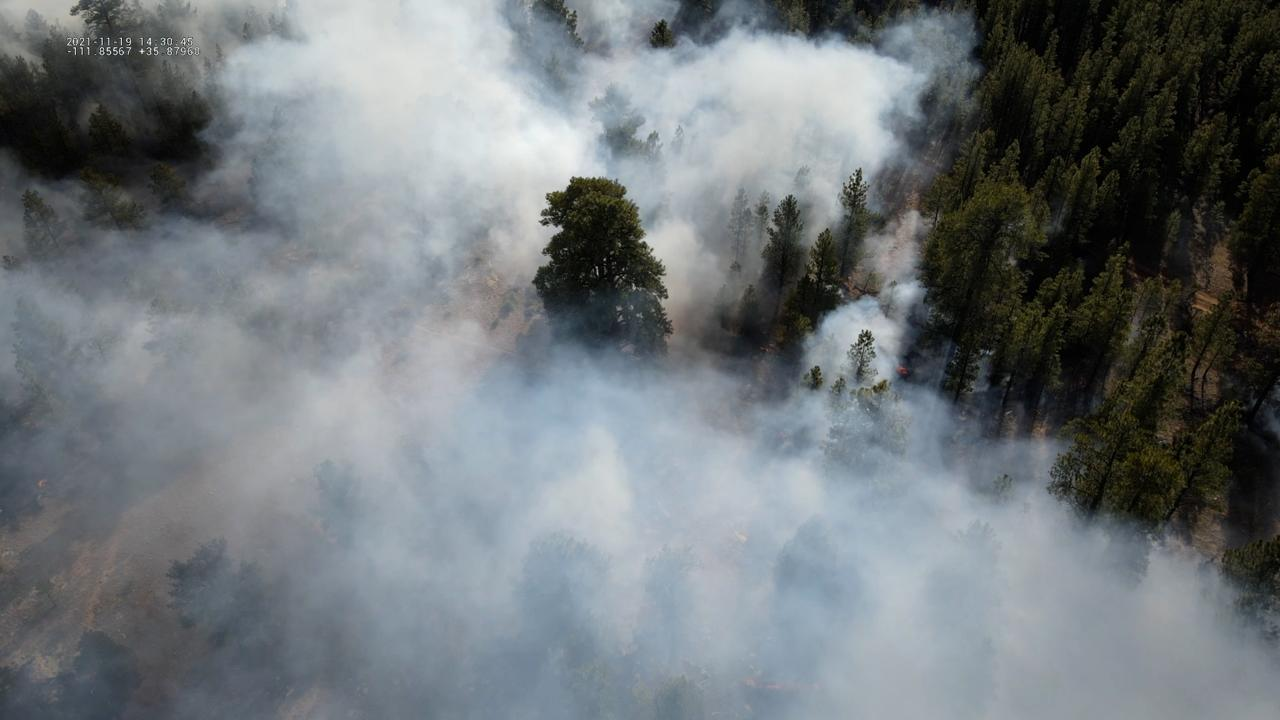fire: (894, 363, 910, 376), (38, 477, 48, 487)
smoke: (0, 0, 1280, 720)
